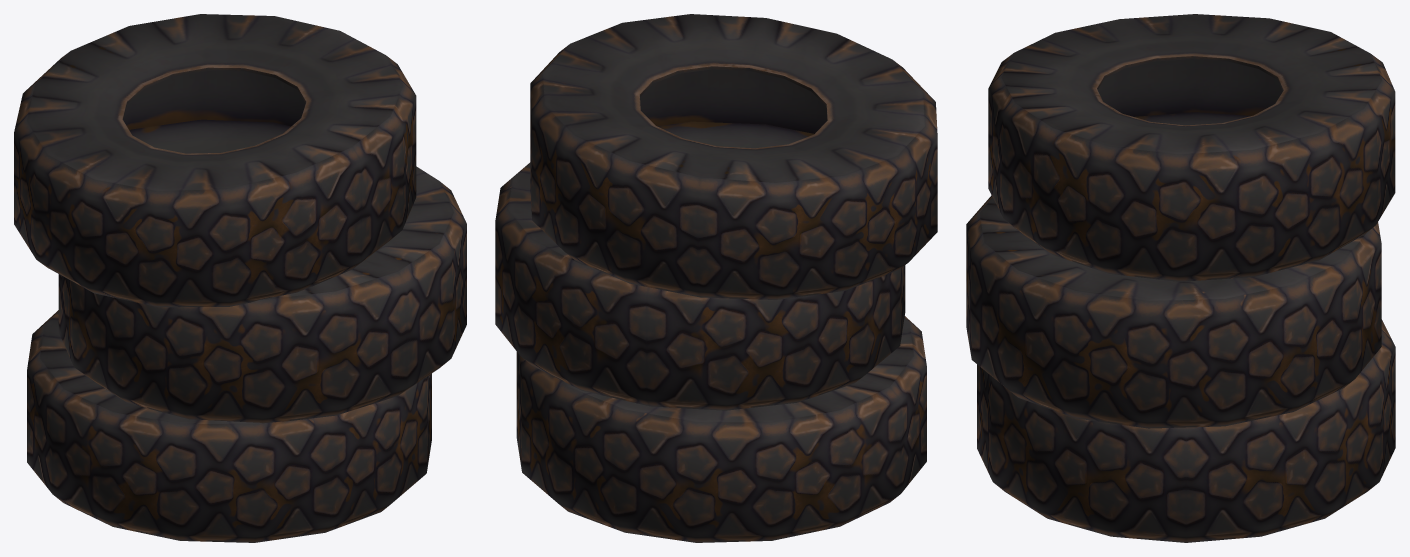
The model's file is Tires01_4.FBX.
3 renders of one model, left to right at view 1: azimuth 30°, elevation 25°; view 2: azimuth 150°, elevation 25°; view 3: azimuth 270°, elevation 25°, orthographic. The views are drawn at different scales.
Parts seen in each view (by area): view 1: Tires01_4; view 2: Tires01_4; view 3: Tires01_4.
Boxes of the visible parts, x1,y1,x2,y2 form: Tires01_4: [14, 14, 466, 542]; Tires01_4: [495, 14, 937, 542]; Tires01_4: [966, 14, 1395, 542].
Size of what is drawn, in the model's own units: 1.33 by 1.21 by 1.23.
